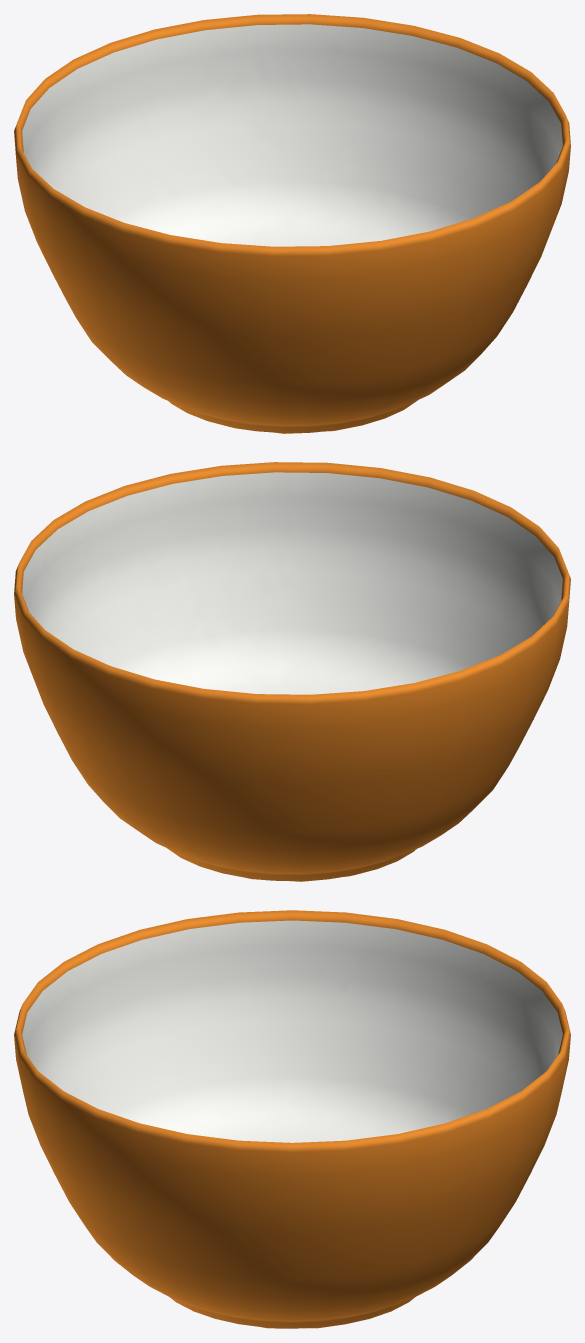
File: Mixing Bowl.fbx
3 views of the same model, one above another, from view 1: azimuth 30°, elevation 25°; view 2: azimuth 150°, elevation 25°; view 3: azimuth 270°, elevation 25° (orthographic).
Parts seen in each view (by area): view 1: MixingBowl; view 2: MixingBowl; view 3: MixingBowl.
Boxes of the visible parts, bbox=[...] form: MixingBowl: bbox=[14, 14, 570, 433]; MixingBowl: bbox=[14, 462, 570, 881]; MixingBowl: bbox=[14, 910, 570, 1328].
Bounding box in the file's own units: 21.78 × 10.81 × 21.78.
1 material, 1 textured.
